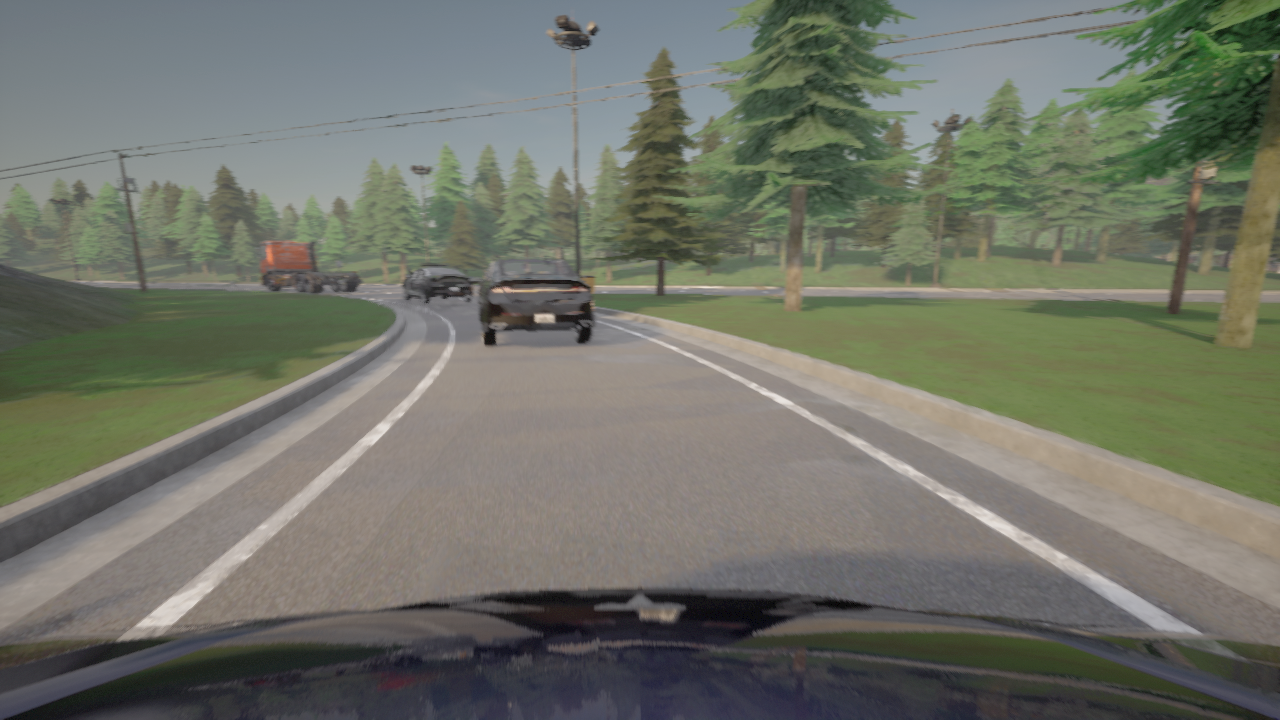cyclist: (0, 588, 1279, 719), (470, 257, 594, 345), (255, 240, 362, 292), (402, 263, 473, 303)
